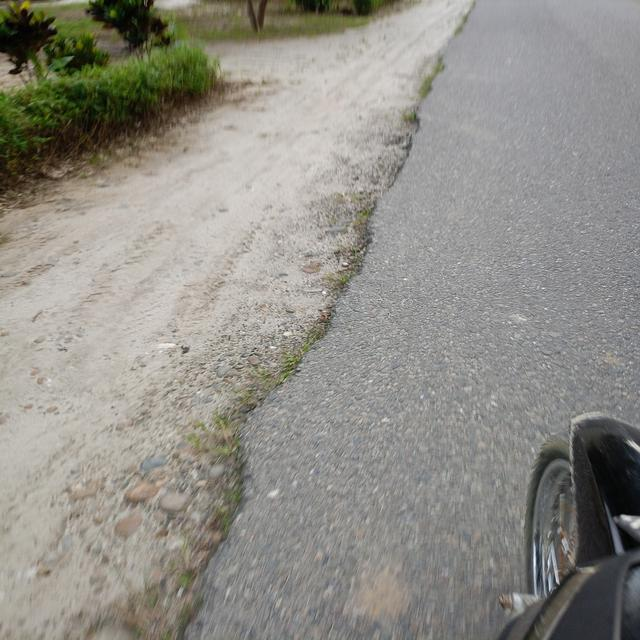Pinggir: (96, 59, 472, 640)
